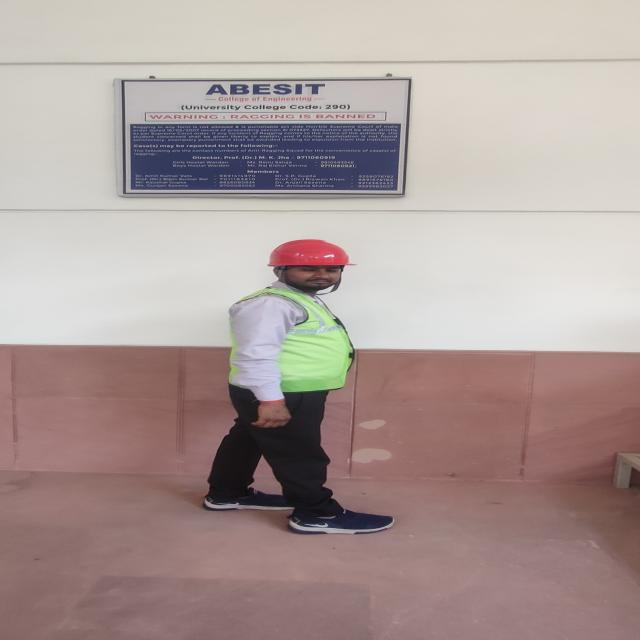safe: (230, 239, 357, 534)
